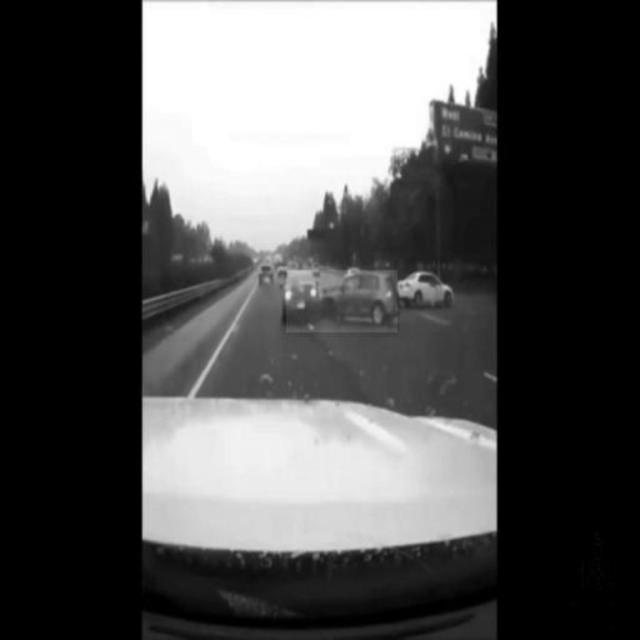accident: (287, 271, 398, 333)
